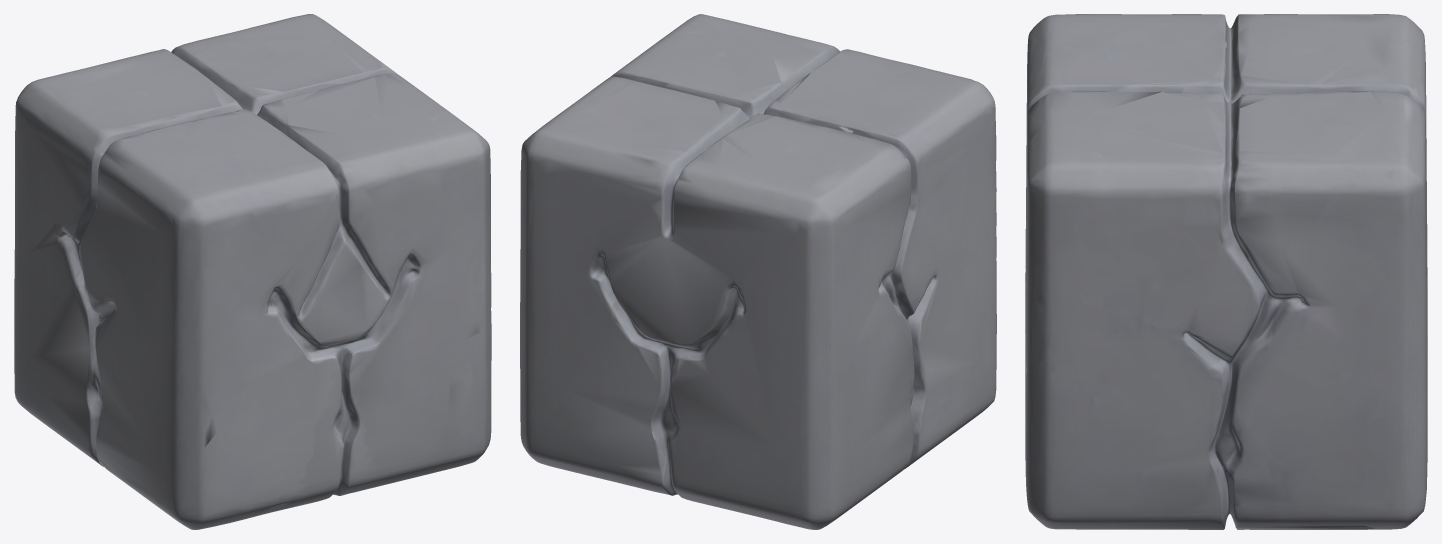
File: obstacle_jumpblock.glb
The picture shows the model from 3 angles, left to right: view 1: azimuth 30°, elevation 25°; view 2: azimuth 150°, elevation 25°; view 3: azimuth 270°, elevation 25°; orthographic projection. The views are drawn at different scales.
Visible parts, largest first — view 1: model; view 2: model; view 3: model.
Boxes of the visible parts, x1,y1,x2,y2 form: model: [14, 14, 491, 529]; model: [520, 14, 996, 529]; model: [1025, 14, 1427, 529].
Size of the model in its own units: 1.9 by 1.9 by 1.89.
Materials: 1 (1 with a texture image).
